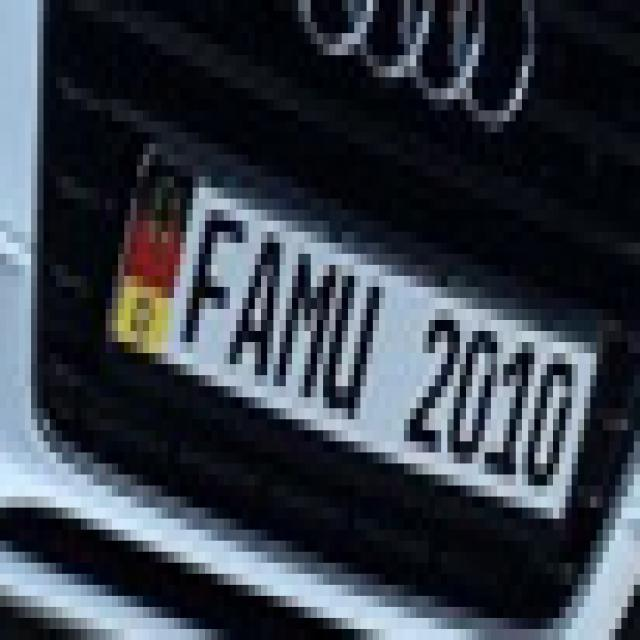0: (514, 338, 585, 510), (438, 315, 509, 478)
1: (472, 334, 542, 488)
A: (226, 224, 289, 380)
F: (171, 194, 254, 368)
M: (267, 238, 342, 413)
U: (314, 260, 387, 430)
